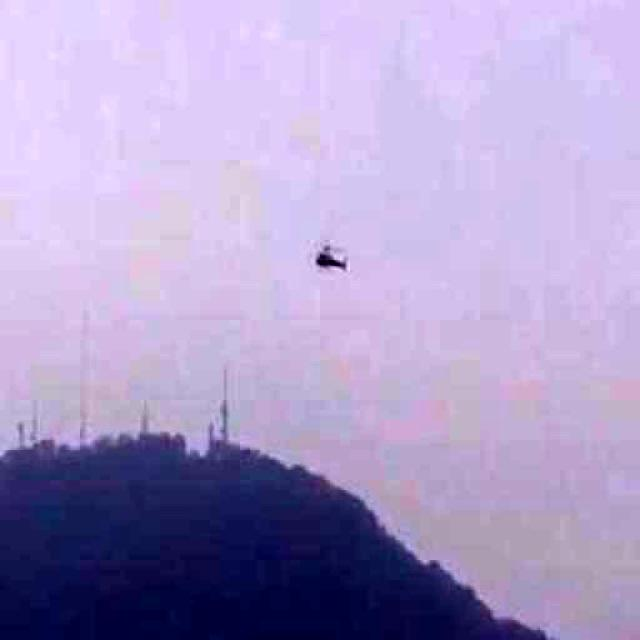drone: (284, 209, 366, 295)
